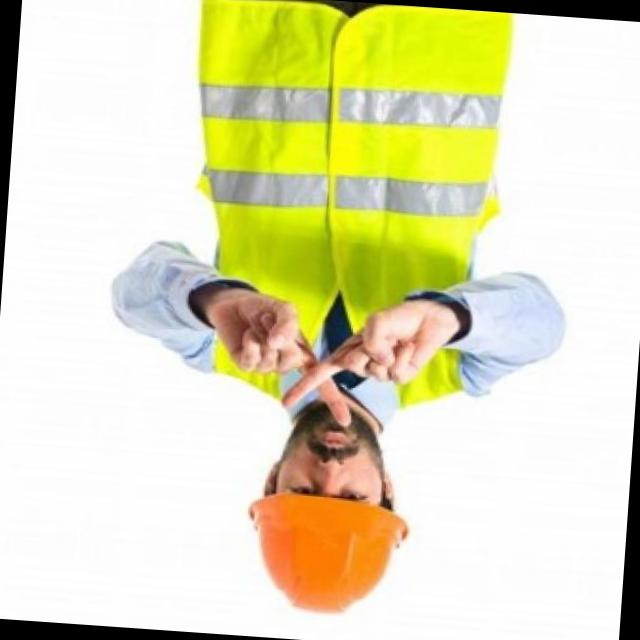not-gloved: (194, 283, 350, 427)
